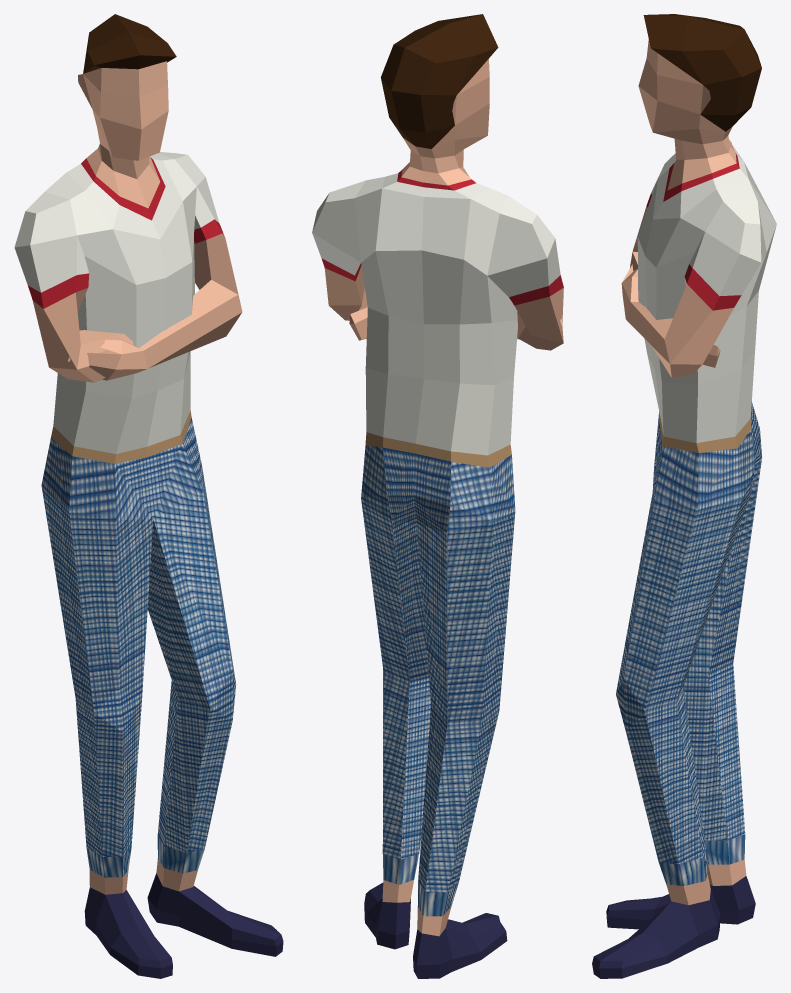
The model's file is SpringManB.002.glb.
3 views of the same model, side by side, from view 1: azimuth 30°, elevation 25°; view 2: azimuth 150°, elevation 25°; view 3: azimuth 270°, elevation 25° (orthographic). The views are drawn at different scales.
Parts seen in each view (by area): view 1: SpringManB.002; view 2: SpringManB.002; view 3: SpringManB.002.
Boxes of the visible parts, x1=… form: SpringManB.002: x1=14, y1=14, x2=283, y2=978; SpringManB.002: x1=312, y1=14, x2=563, y2=978; SpringManB.002: x1=592, y1=14, x2=776, y2=978.
Size of the model in its own units: 0.4415 by 1.75 by 0.3221.
1 material, 1 textured.
